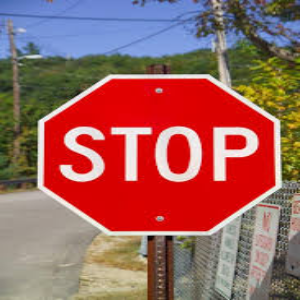STOP_SIGN: (38, 73, 280, 235)
